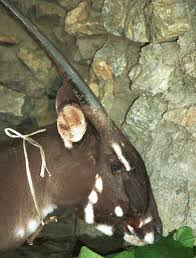sao_la: (1, 78, 159, 243)
